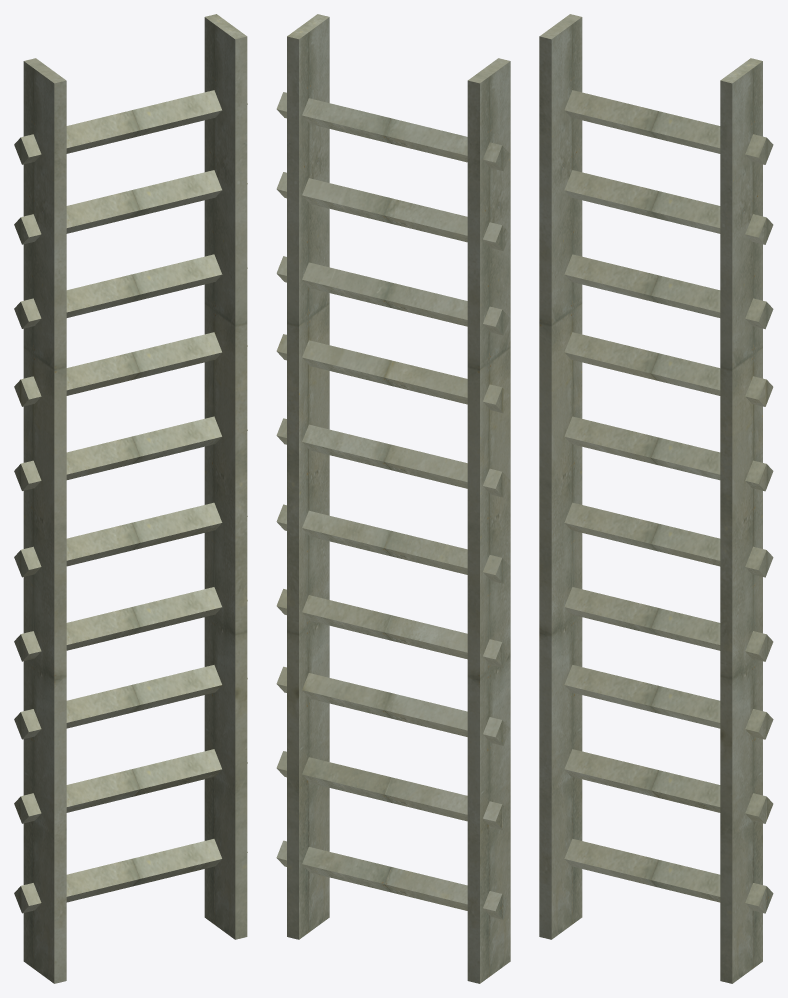
The model's file is SM_LDFest_21_LadderFab.fbx.
The picture shows the model from 3 angles, left to right: view 1: azimuth 30°, elevation 25°; view 2: azimuth 150°, elevation 25°; view 3: azimuth 330°, elevation 25°; orthographic projection.
Visible parts, largest first — view 1: SM_LDFest_21_LadderFab; view 2: SM_LDFest_21_LadderFab; view 3: SM_LDFest_21_LadderFab.
Part boxes in pixels (left/top/right/bottom): SM_LDFest_21_LadderFab: left=14, top=14, right=247, bottom=983; SM_LDFest_21_LadderFab: left=276, top=14, right=510, bottom=983; SM_LDFest_21_LadderFab: left=539, top=14, right=773, bottom=983.
Size of the model in its own units: 223 by 877 by 54.06.
